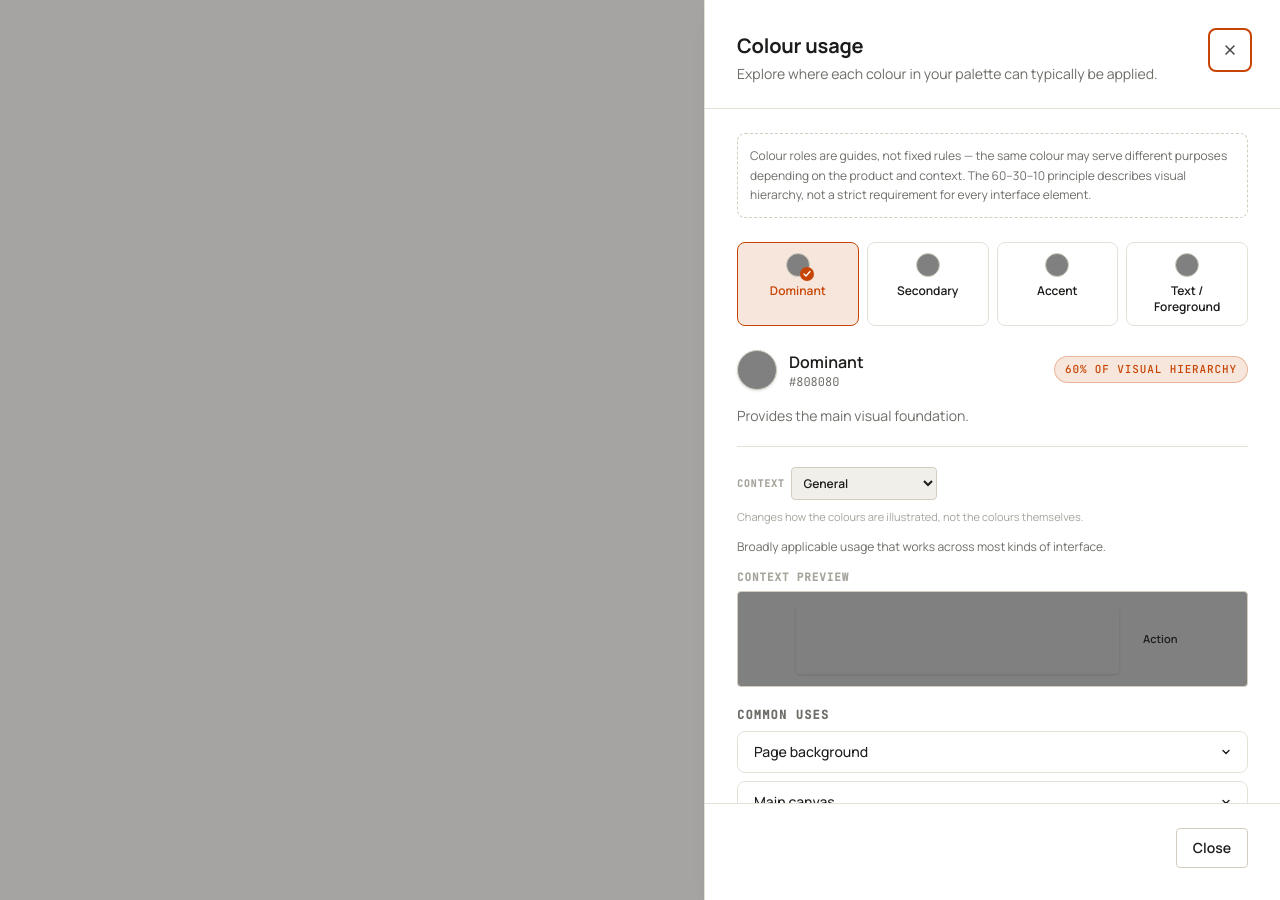
Colour Usage Map — colour edge cases › all colours identical › renders visual examples for usage items without hiding them
Click the tab "Accent": (1057, 284) [996,242,1118,326]
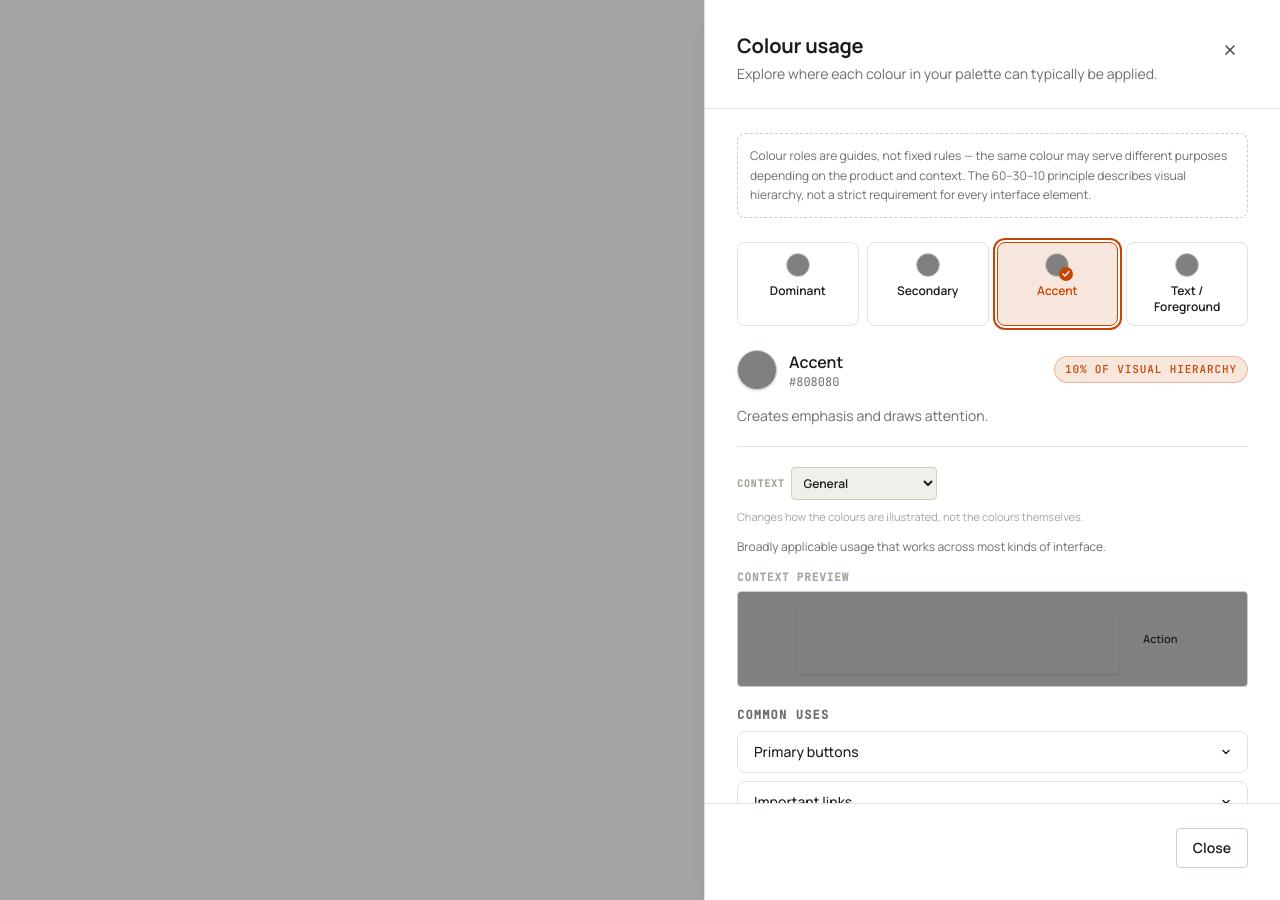
Click the heading "Primary buttons": (806, 752) [754,742,1231,761]
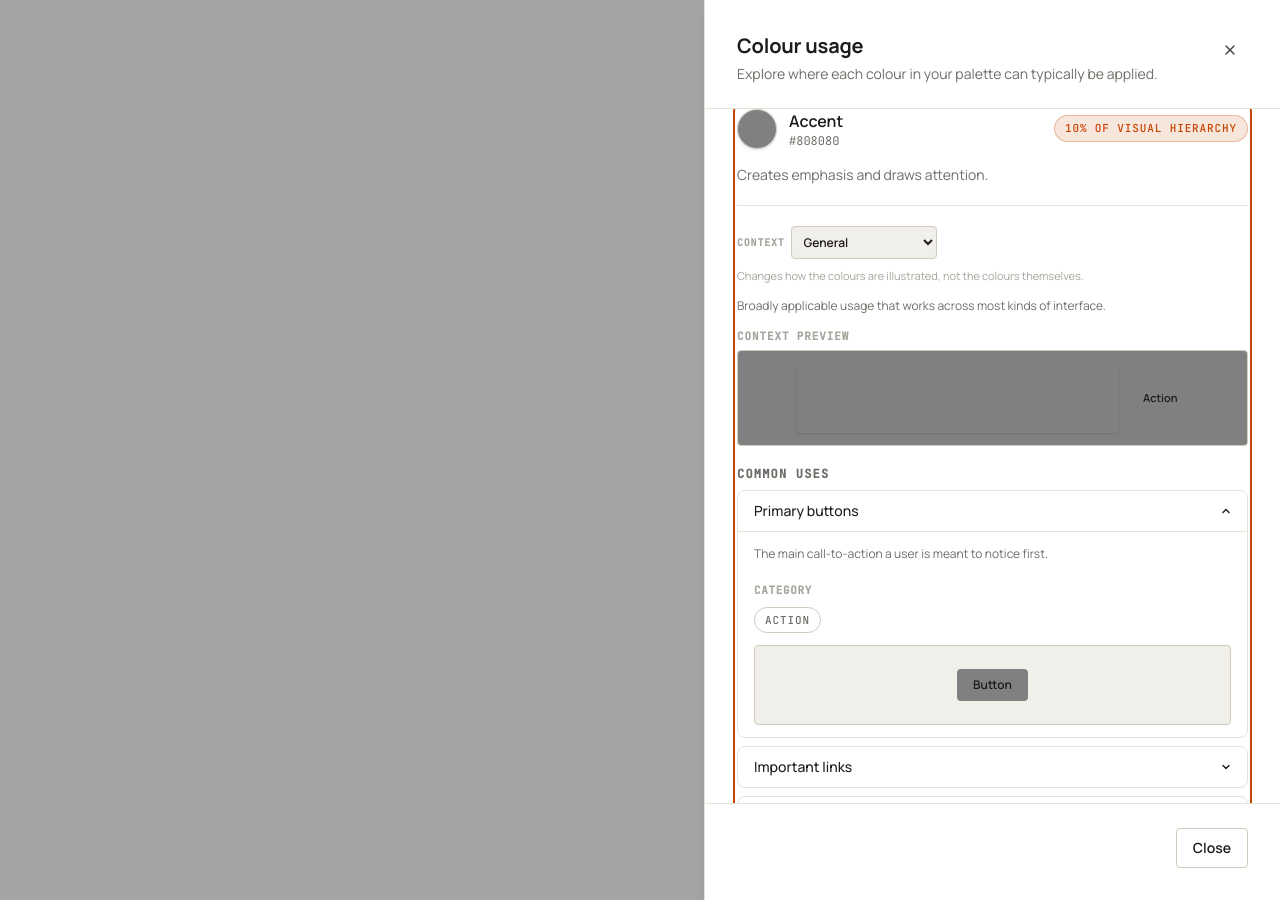
Result: the picture named "primary button" is shown at [754,645,1231,725]
